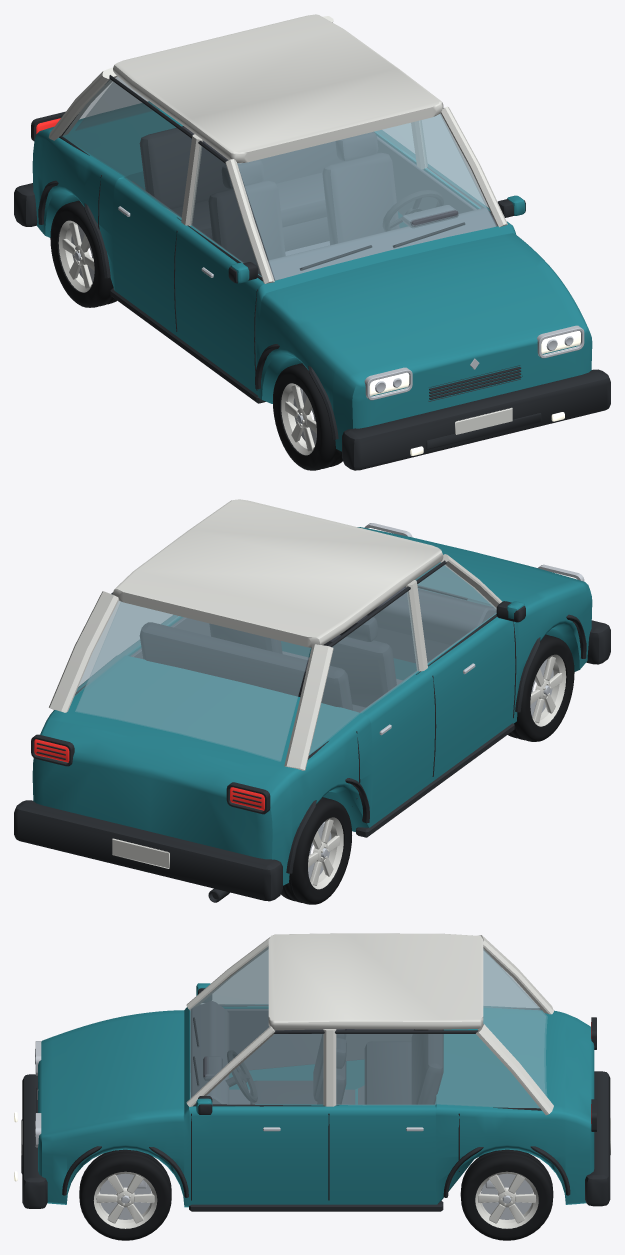
The model's file is Car.fbx.
The picture shows the model from 3 angles, top to bottom: view 1: azimuth 30°, elevation 25°; view 2: azimuth 150°, elevation 25°; view 3: azimuth 270°, elevation 25°; orthographic projection. The views are drawn at different scales.
Parts seen in each view (by area): view 1: Car_Body, Car_Glass, Car_Roof, Car_Seats, Car_Trim, Car_Interior, Car_Wheel_FR, Car_Wheel_RR, Car_Wheel_FR_Rim, Car_Wheel_RR_Rim, Car_LightBezels, Car_HeadLights (+2 smaller); view 2: Car_Body, Car_Glass, Car_Roof, Car_Trim, Car_Seats, Car_Interior, Car_Wheel_RR, Car_Wheel_FR, Car_Wheel_RR_Rim, Car_Wheel_FR_Rim, Car_TailBezels, Car_Plates (+2 smaller); view 3: Car_Body, Car_Glass, Car_Roof, Car_Trim, Car_Interior, Car_Seats, Car_Wheel_RL, Car_Wheel_FL, Car_Wheel_RL_Rim, Car_Wheel_FL_Rim, Car_Wheel_FL_Hub, Car_Wheel_RL_Hub (+1 smaller).
Boxes of the visible parts, x1=… form: Car_Body: x1=32, y1=101, x2=592, y2=451; Car_Glass: x1=62, y1=76, x2=496, y2=280; Car_Roof: x1=48, y1=14, x2=507, y2=283; Car_Seats: x1=139, y1=126, x2=399, y2=264; Car_Trim: x1=14, y1=75, x2=610, y2=470; Car_Interior: x1=132, y1=136, x2=497, y2=280; Car_Wheel_FR: x1=273, y1=363, x2=342, y2=470; Car_Wheel_RR: x1=50, y1=200, x2=116, y2=307; Car_Wheel_FR_Rim: x1=281, y1=383, x2=316, y2=455; Car_Wheel_RR_Rim: x1=58, y1=220, x2=94, y2=292; Car_LightBezels: x1=364, y1=325, x2=584, y2=400; Car_HeadLights: x1=369, y1=331, x2=580, y2=455; Car_Body: x1=32, y1=527, x2=592, y2=885; Car_Glass: x1=74, y1=562, x2=496, y2=761; Car_Roof: x1=49, y1=499, x2=502, y2=770; Car_Trim: x1=14, y1=560, x2=610, y2=902; Car_Seats: x1=139, y1=615, x2=396, y2=712; Car_Interior: x1=130, y1=586, x2=496, y2=712; Car_Wheel_RR: x1=281, y1=797, x2=351, y2=904; Car_Wheel_FR: x1=508, y1=634, x2=574, y2=741; Car_Wheel_RR_Rim: x1=308, y1=817, x2=343, y2=889; Car_Wheel_FR_Rim: x1=530, y1=654, x2=566, y2=726; Car_TailBezels: x1=31, y1=734, x2=270, y2=814; Car_Plates: x1=112, y1=838, x2=169, y2=868; Car_Body: x1=38, y1=1006, x2=594, y2=1207; Car_Glass: x1=190, y1=946, x2=547, y2=1108; Car_Roof: x1=186, y1=933, x2=553, y2=1115; Car_Trim: x1=21, y1=988, x2=610, y2=1211; Car_Interior: x1=190, y1=1001, x2=413, y2=1104; Car_Seats: x1=250, y1=1029, x2=443, y2=1104; Car_Wheel_RL: x1=460, y1=1149, x2=553, y2=1240; Car_Wheel_FL: x1=79, y1=1149, x2=171, y2=1240; Car_Wheel_RL_Rim: x1=475, y1=1171, x2=538, y2=1228; Car_Wheel_FL_Rim: x1=93, y1=1171, x2=157, y2=1228; Car_Wheel_FL_Hub: x1=99, y1=1173, x2=151, y2=1219; Car_Wheel_RL_Hub: x1=481, y1=1173, x2=532, y2=1219.
Bounding box in the file's own units: 182 × 148 × 376.
